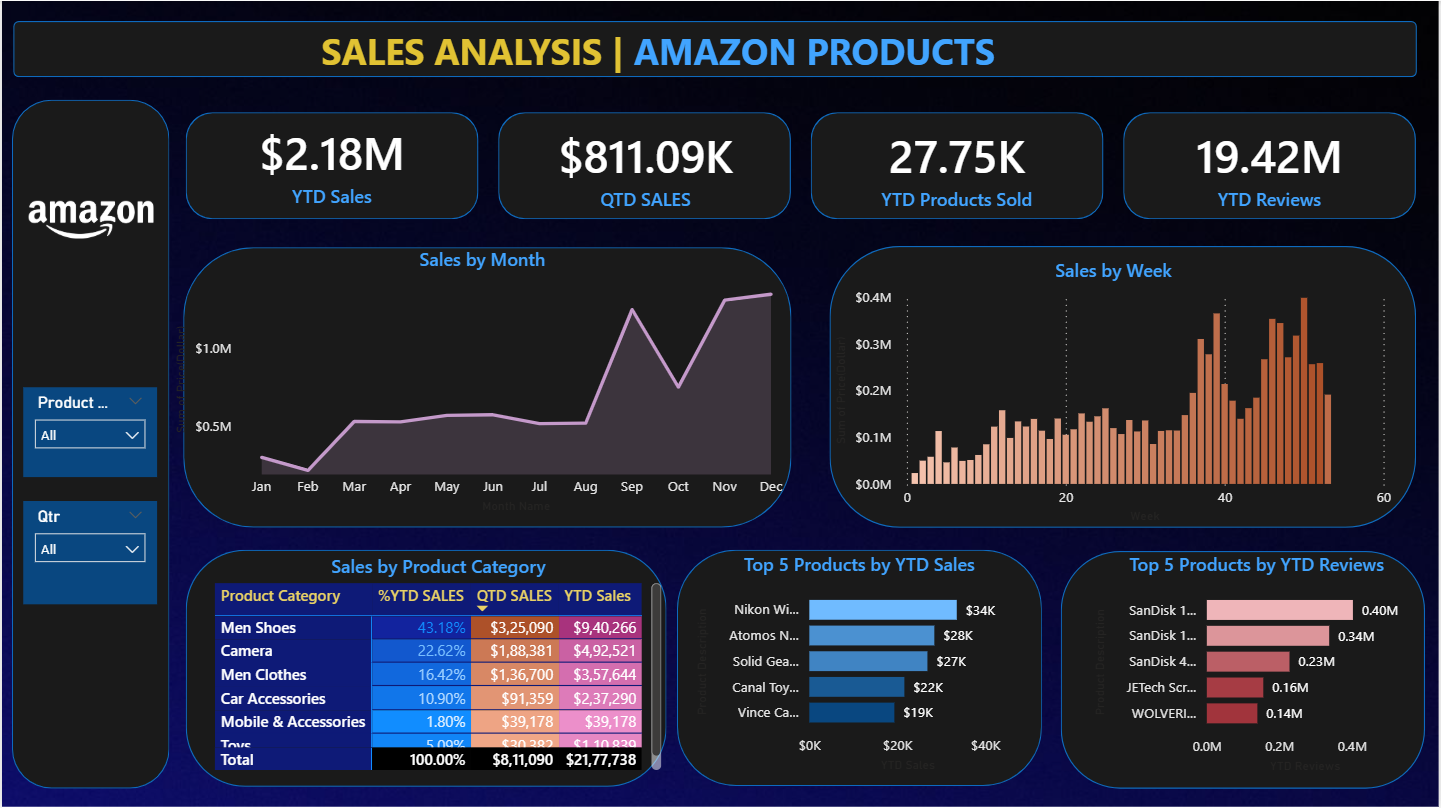

Layout of this report page (visuals, bound fields, positions):
{"tool":"powerbi","page":{"name":"Page 1","canvas":[1280,720],"ordinal":0},"visuals":[{"type":"shape","box":[9.6,17.8,1250,50],"z":0},{"type":"textbox","box":[279.9,18.1,614.1,61.5],"z":1000},{"type":"shape","box":[8.9,87.9,140.3,613.4],"z":2000},{"type":"shape","box":[164.1,98.9,260.6,95.3],"z":3000},{"type":"card","fields":{"Values":["Amazon_Data.YTD Sales"]},"box":[164.1,96.5,260.6,97.7],"z":4000},{"type":"shape","box":[442.4,98.9,260.6,95.3],"z":5000},{"type":"shape","box":[720.6,98.9,260.6,95.3],"z":6000},{"type":"shape","box":[998.9,98.9,260.6,95.3],"z":7000},{"type":"card","fields":{"Values":["Amazon_Data.QTD SALES"]},"box":[442.8,98.9,260.6,97.7],"z":8000},{"type":"card","fields":{"Values":["Amazon_Data.YTD Products Sold"]},"box":[720.2,98.9,260.6,97.7],"z":9000},{"type":"card","fields":{"Values":["Amazon_Data.YTD Reviews"]},"box":[998.9,98.9,260.6,97.7],"z":10000},{"type":"shape","box":[161.7,219.6,541.7,249.7],"z":11000},{"type":"areaChart","title":"Sales by Month","fields":{"Y":["Sum(Amazon_Data.Price(Dollar))"],"Category":["Date Table.Month Name"]},"box":[149.6,218.4,557.4,242.5],"z":12000},{"type":"shape","box":[737.1,218.4,522.4,250.9],"z":13000},{"type":"columnChart","title":"Sales by Week","fields":{"Category":["Date Table.Week"],"Y":["Sum(Amazon_Data.Price(Dollar))"]},"box":[737.2,227.9,505.8,241.9],"z":14000},{"type":"shape","box":[164.1,488.6,428.3,211.1],"z":15000},{"type":"pivotTable","title":"Sales by Product Category","fields":{"Rows":["Amazon_Data.Product Category"],"Values":["Amazon_Data.YTD Sales","Amazon_Data.QTD SALES","Amazon_Data.YTD Sales1"]},"box":[184.6,492.2,407.8,197.9],"z":16000},{"type":"shape","box":[601.1,488.7,325,210.4],"z":17000},{"type":"shape","box":[943,489.5,324.4,211.6],"z":18000},{"type":"clusteredBarChart","title":"Top 5 Products by YTD Sales","fields":{"Y":["Amazon_Data.YTD Sales"],"Category":["Amazon_Data.Product Description"]},"box":[613.4,489.8,300.6,201.5],"z":19000},{"type":"clusteredBarChart","title":"Top 5 Products by YTD Reviews","fields":{"Category":["Amazon_Data.Product Description"],"Y":["Amazon_Data.YTD Reviews"]},"box":[967.4,489.5,300,202.3],"z":20000},{"type":"slicer","fields":{"Values":["Amazon_Data.Product Category"]},"box":[18.9,344,119.1,80.1],"z":21000},{"type":"slicer","fields":{"Values":["Date Table.Qtr"]},"box":[18.9,445.3,119.1,92.4],"z":22000},{"type":"image","box":[18.9,154.7,121.3,80.1],"z":23000}]}

Visuals, with their boxes in screenshot pixels (x1, y1, x2, y2), scaled from the page's 1280x720 canvas onto the 1441x808 screenshot:
shape: pyautogui.locateOnScreen(11, 20, 1418, 76)
textbox: pyautogui.locateOnScreen(315, 20, 1006, 89)
shape: pyautogui.locateOnScreen(10, 99, 168, 787)
shape: pyautogui.locateOnScreen(185, 111, 478, 218)
card - Amazon_Data.YTD Sales: pyautogui.locateOnScreen(185, 108, 478, 218)
shape: pyautogui.locateOnScreen(498, 111, 791, 218)
shape: pyautogui.locateOnScreen(811, 111, 1105, 218)
shape: pyautogui.locateOnScreen(1125, 111, 1418, 218)
card - Amazon_Data.QTD SALES: pyautogui.locateOnScreen(498, 111, 792, 221)
card - Amazon_Data.YTD Products Sold: pyautogui.locateOnScreen(811, 111, 1104, 221)
card - Amazon_Data.YTD Reviews: pyautogui.locateOnScreen(1125, 111, 1418, 221)
shape: pyautogui.locateOnScreen(182, 246, 792, 527)
"Sales by Month" areaChart: pyautogui.locateOnScreen(168, 245, 796, 517)
shape: pyautogui.locateOnScreen(830, 245, 1418, 527)
"Sales by Week" columnChart: pyautogui.locateOnScreen(830, 256, 1399, 527)
shape: pyautogui.locateOnScreen(185, 548, 667, 785)
"Sales by Product Category" pivotTable: pyautogui.locateOnScreen(208, 552, 667, 774)
shape: pyautogui.locateOnScreen(677, 548, 1043, 785)
shape: pyautogui.locateOnScreen(1062, 549, 1427, 787)
"Top 5 Products by YTD Sales" clusteredBarChart: pyautogui.locateOnScreen(691, 550, 1029, 776)
"Top 5 Products by YTD Reviews" clusteredBarChart: pyautogui.locateOnScreen(1089, 549, 1427, 776)
slicer - Amazon_Data.Product Category: pyautogui.locateOnScreen(21, 386, 155, 476)
slicer - Date Table.Qtr: pyautogui.locateOnScreen(21, 500, 155, 603)
image: pyautogui.locateOnScreen(21, 174, 158, 263)
